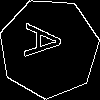A: (24, 23, 71, 61)
